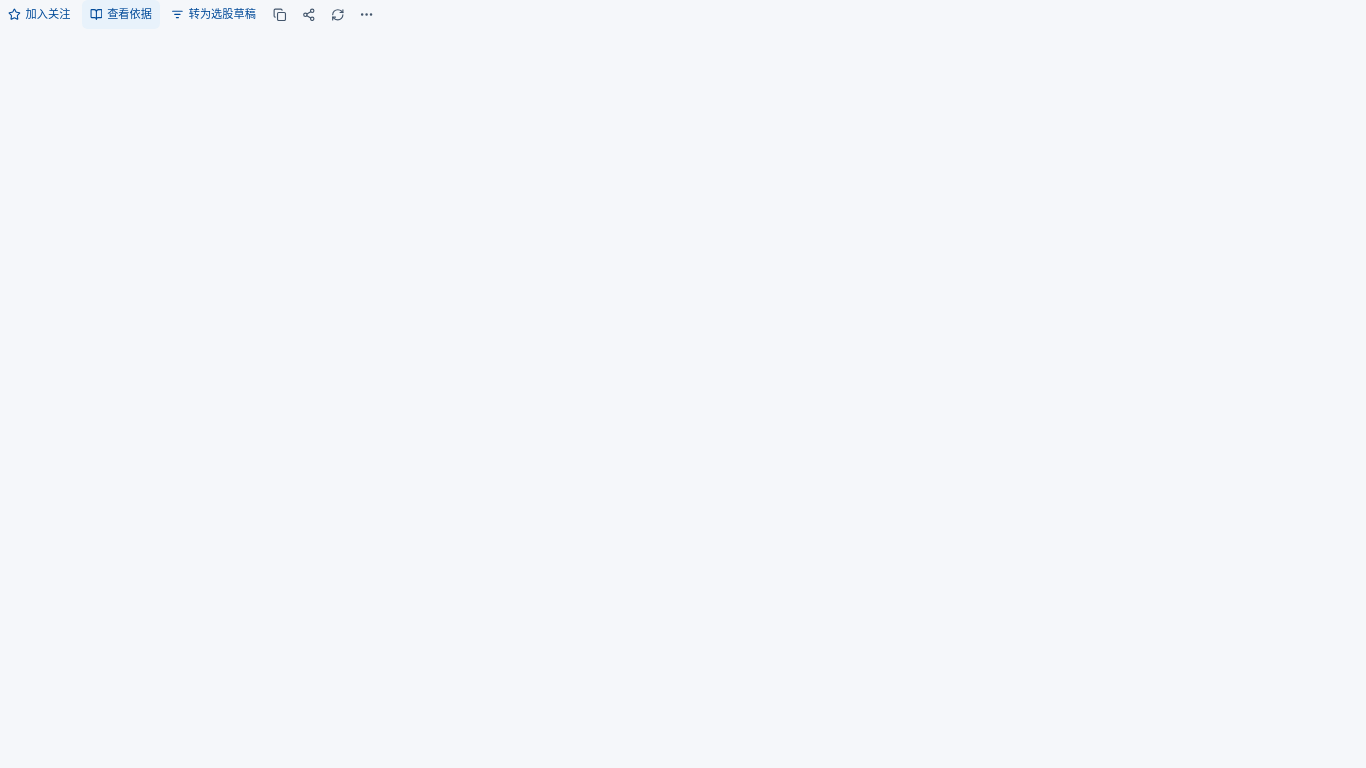
Test case: keeps the revoke result when the share dialog is closed and reopened during a write
Step 1. Click the button named "分享答复" → (309, 14), box [296,2,321,27]
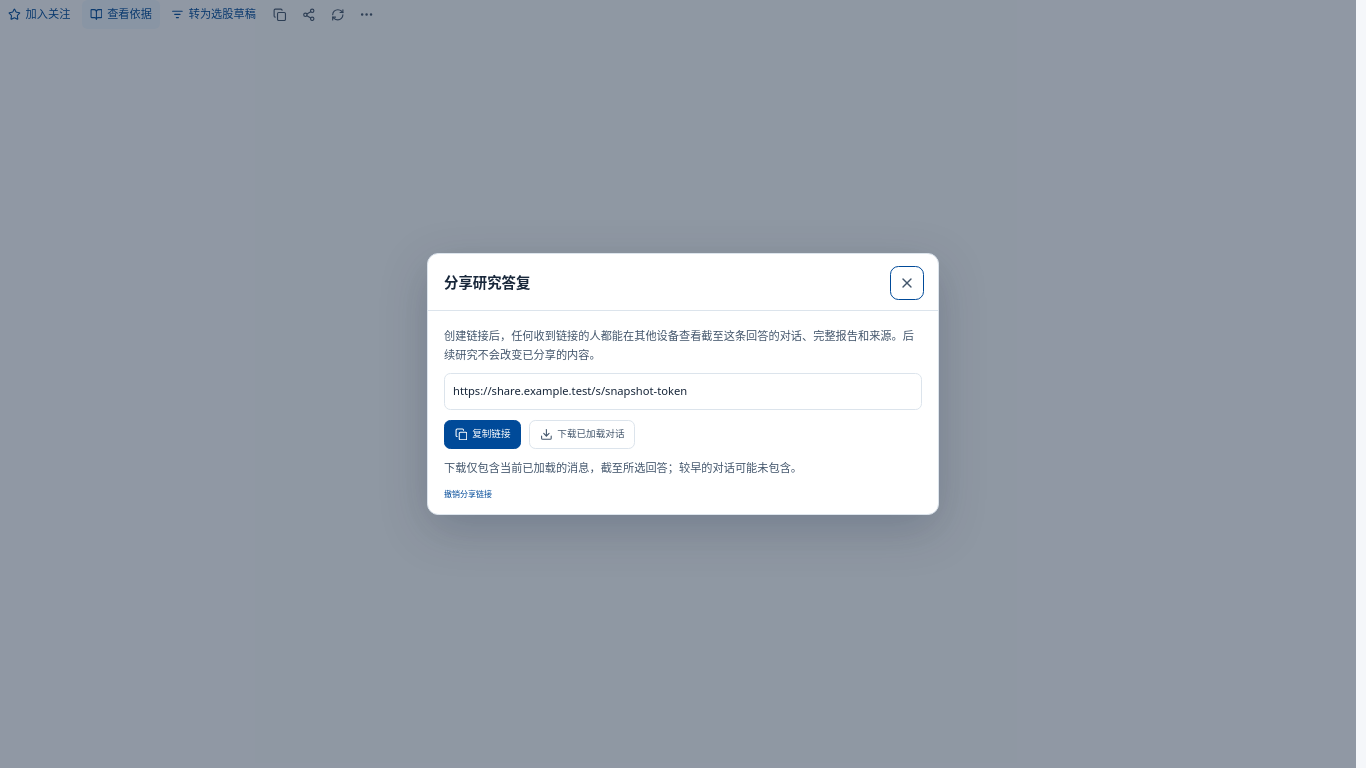
Result: the button "撤销分享链接" is enabled
Step 2. Click the button "撤销分享链接" → (468, 493), box [444,487,922,500]
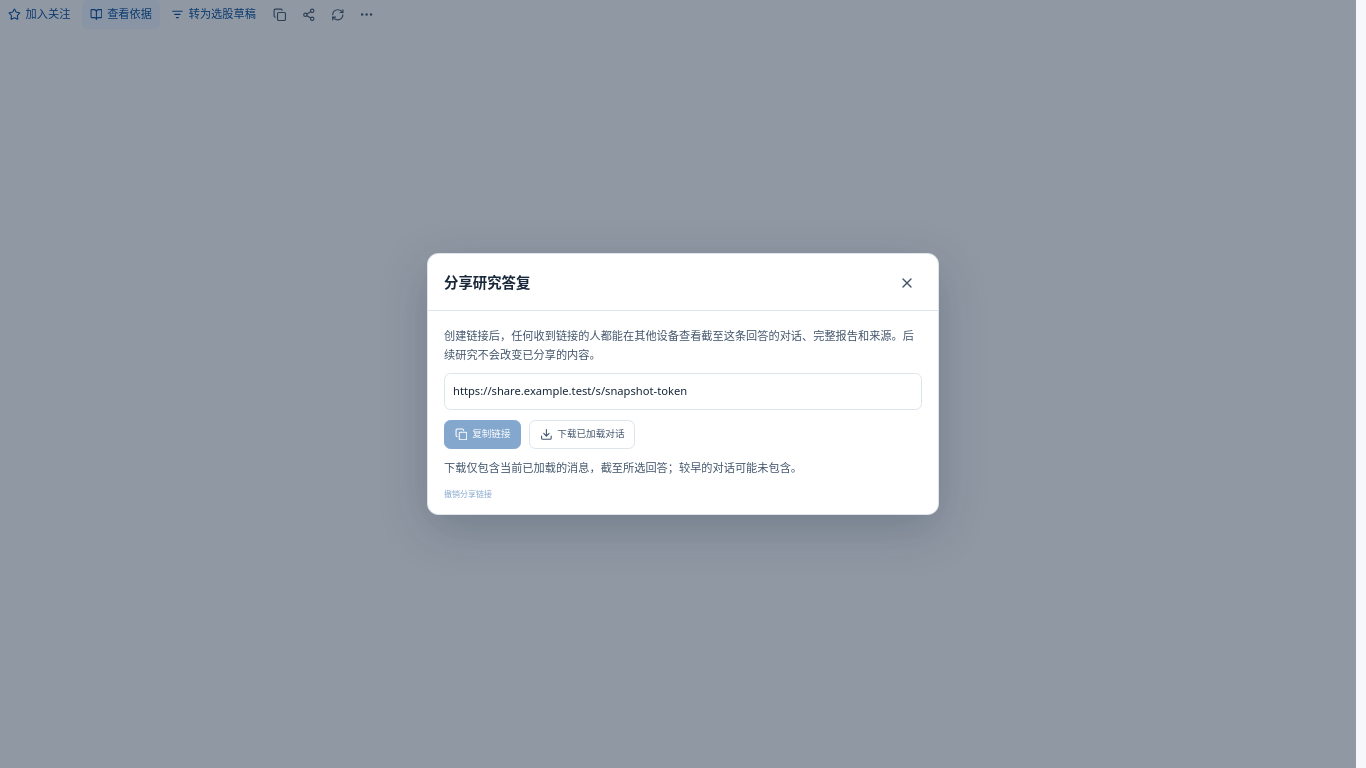
Step 3. Click the button named "关闭分享" → (907, 283), box [892,268,922,298]
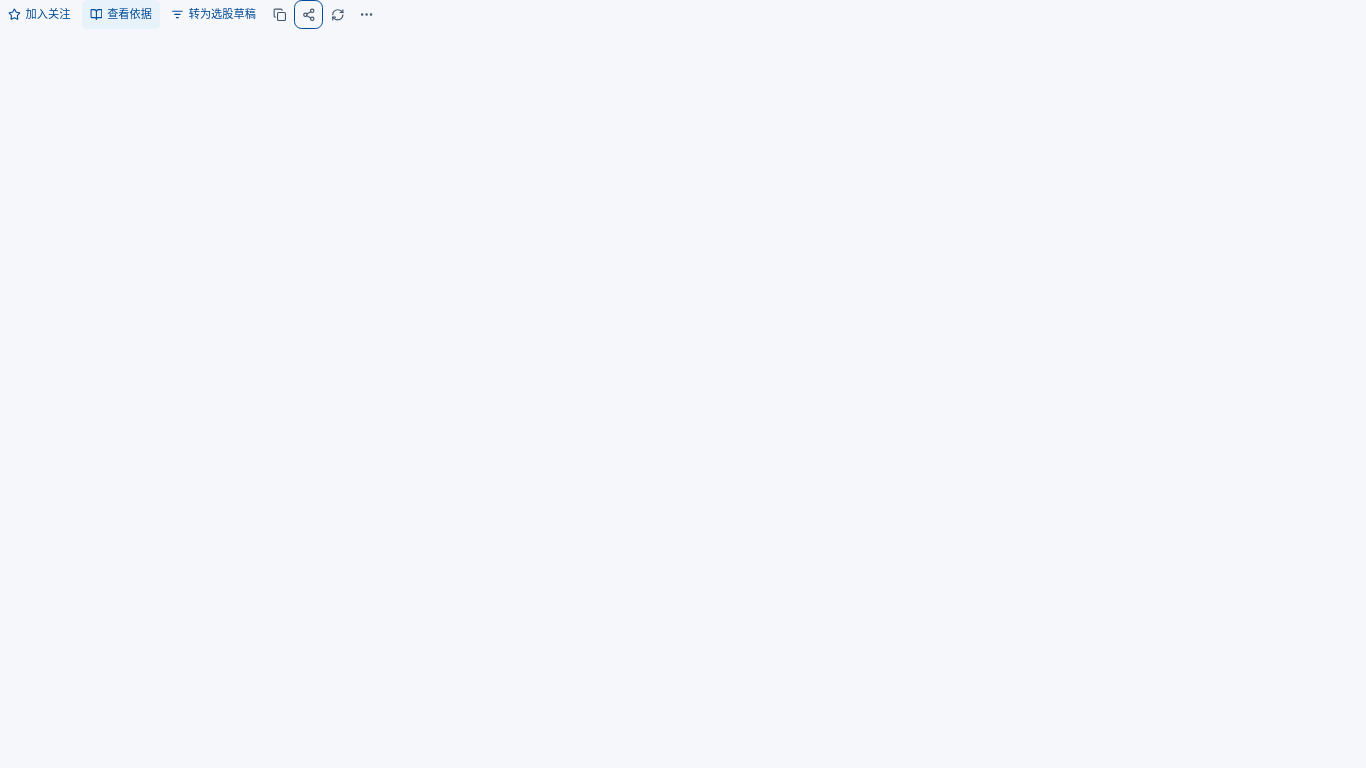
Step 4. Click the button named "分享答复" → (309, 14), box [296,2,321,27]
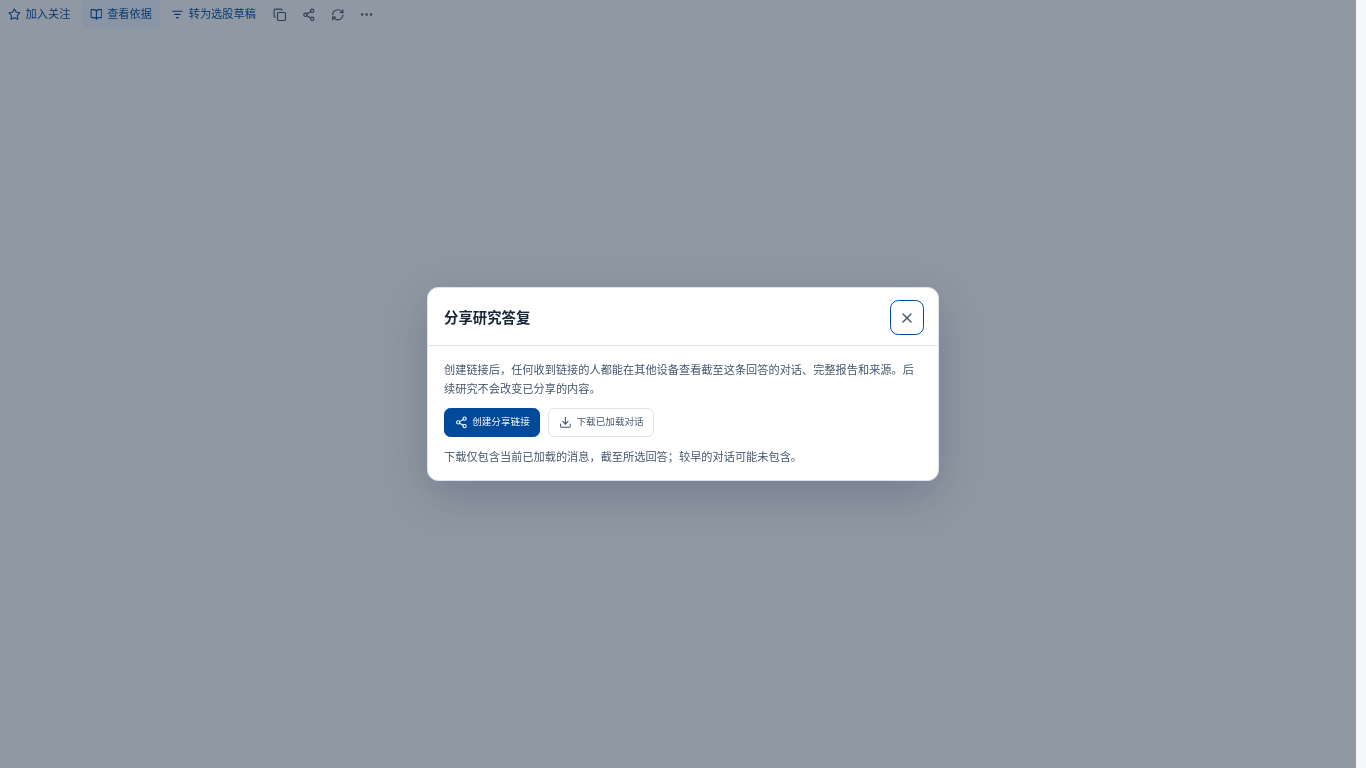
Result: the button "创建分享链接" is enabled at [444,408,540,437]
